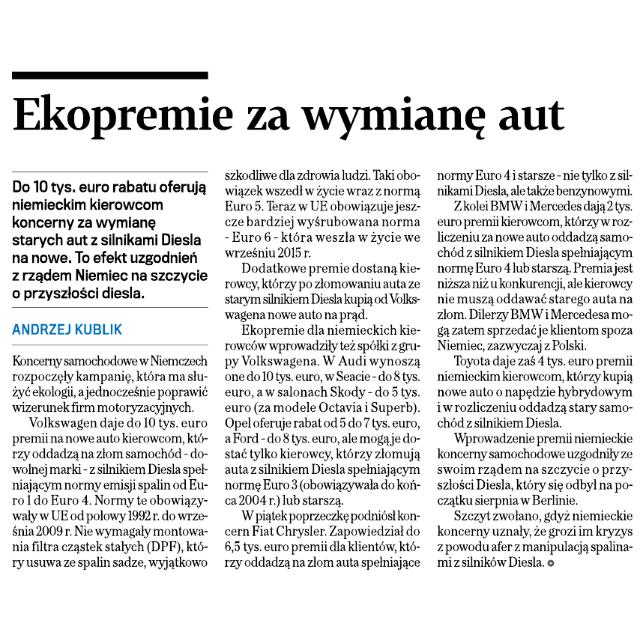author: (7, 314, 129, 340)
body: (432, 163, 640, 572), (222, 165, 426, 570), (7, 348, 214, 570)
lead: (7, 174, 213, 304)
title: (9, 83, 574, 151)
